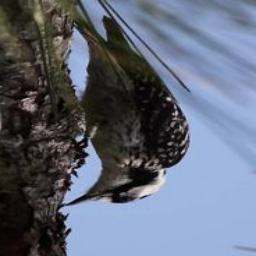Woodpecker: (50, 7, 203, 218)
